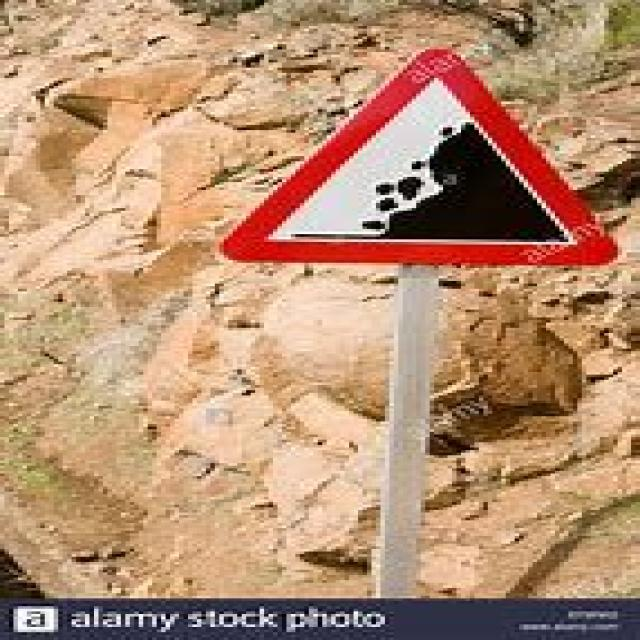FALLING_ROCKS: (215, 41, 613, 262)
